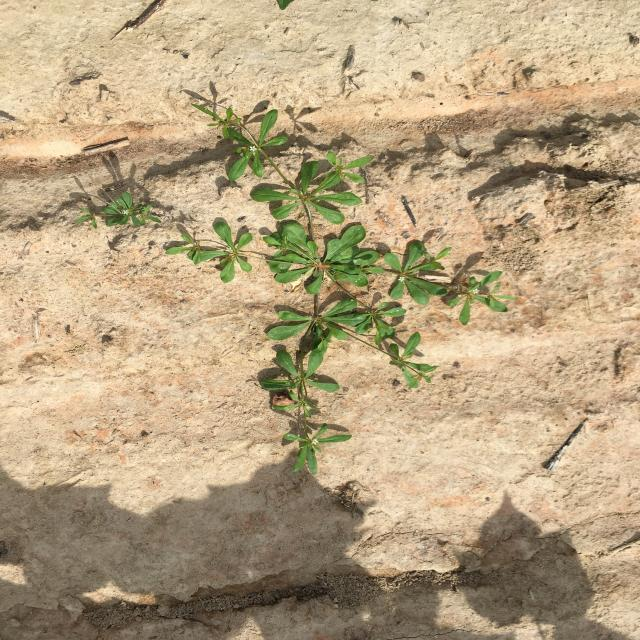Carpetweed: (165, 103, 519, 475), (75, 192, 161, 228)
